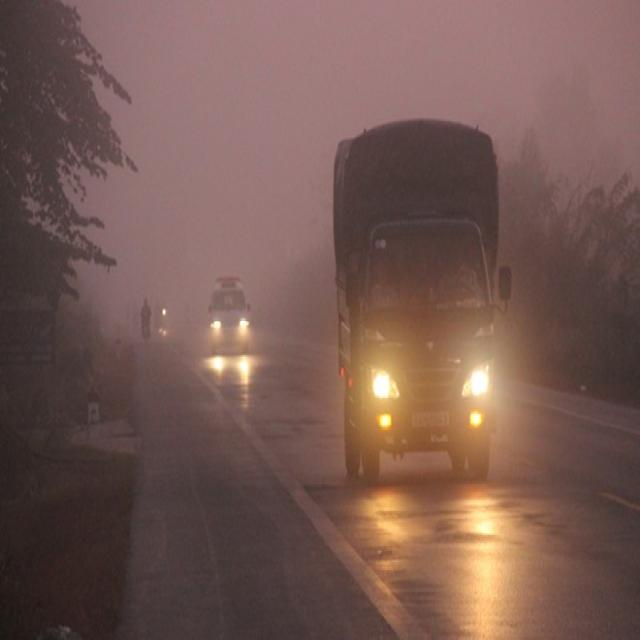Car: (206, 276, 256, 353)
Truck: (333, 119, 512, 500)
